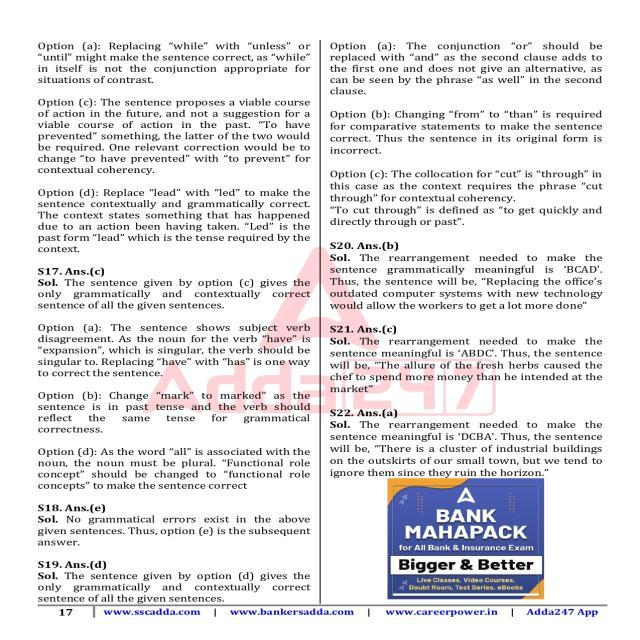Answer_Block: (36, 264, 311, 492), (29, 40, 313, 259), (325, 38, 622, 228), (325, 239, 640, 316), (326, 405, 640, 478), (326, 324, 640, 396), (34, 498, 314, 552), (34, 558, 313, 604)
Question_Paper_Area: (26, 33, 316, 607), (328, 34, 640, 478)
